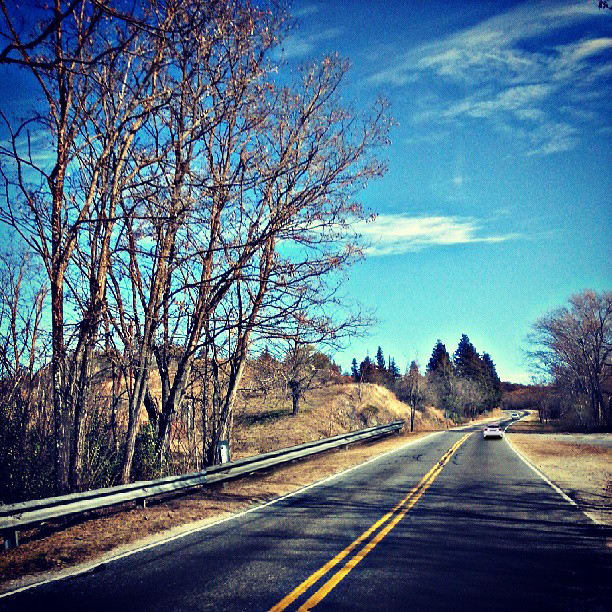copymove: (203, 420, 408, 485)
removal: (537, 379, 570, 441)
spliced: (477, 418, 504, 447)
